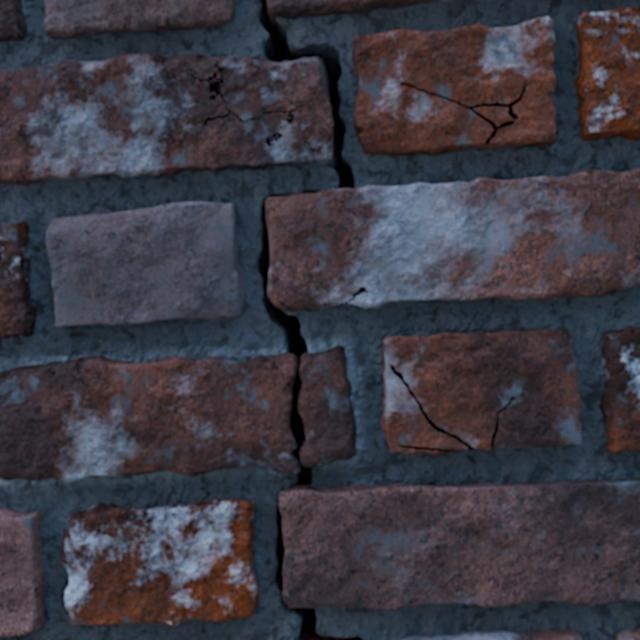broken_brick: (0, 353, 301, 481), (299, 345, 356, 466)
crack: (0, 0, 639, 639), (352, 16, 556, 155), (61, 498, 259, 627), (381, 329, 582, 455), (46, 201, 246, 327), (574, 7, 639, 140), (44, 0, 235, 39), (0, 508, 45, 636), (599, 326, 639, 453), (0, 221, 35, 338), (399, 629, 583, 639), (0, 0, 26, 41), (616, 629, 639, 639)
